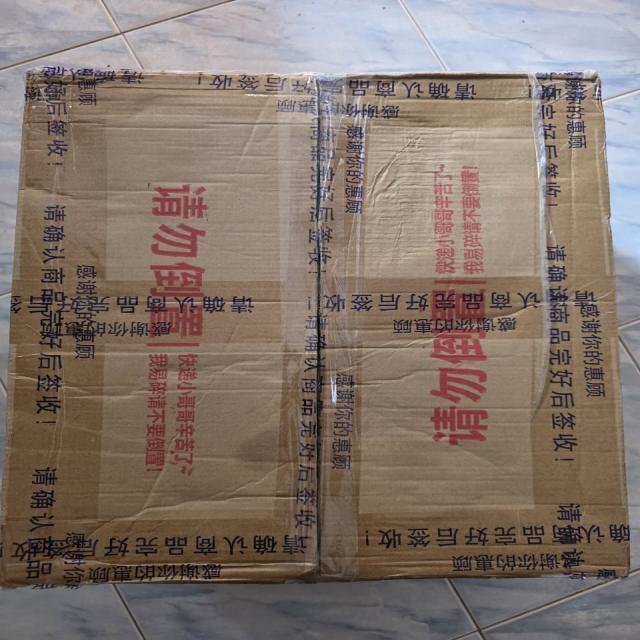carton_box: (0, 54, 640, 607)
package_damage: (285, 73, 361, 582)
